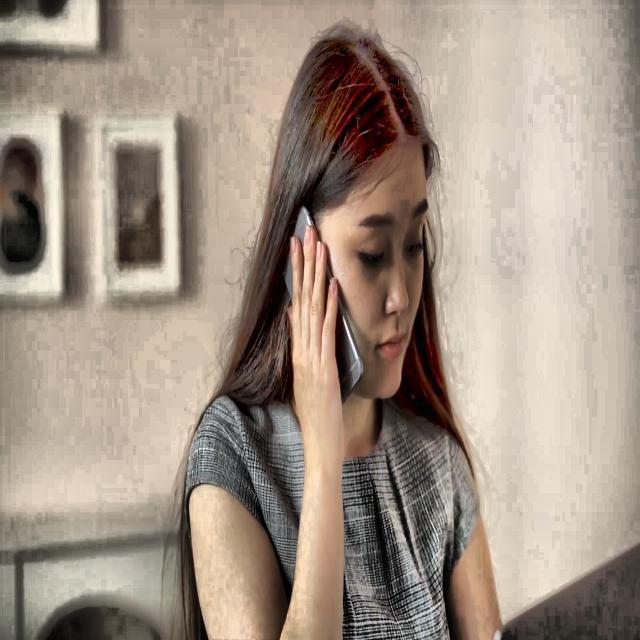Phone: (282, 204, 364, 408)
